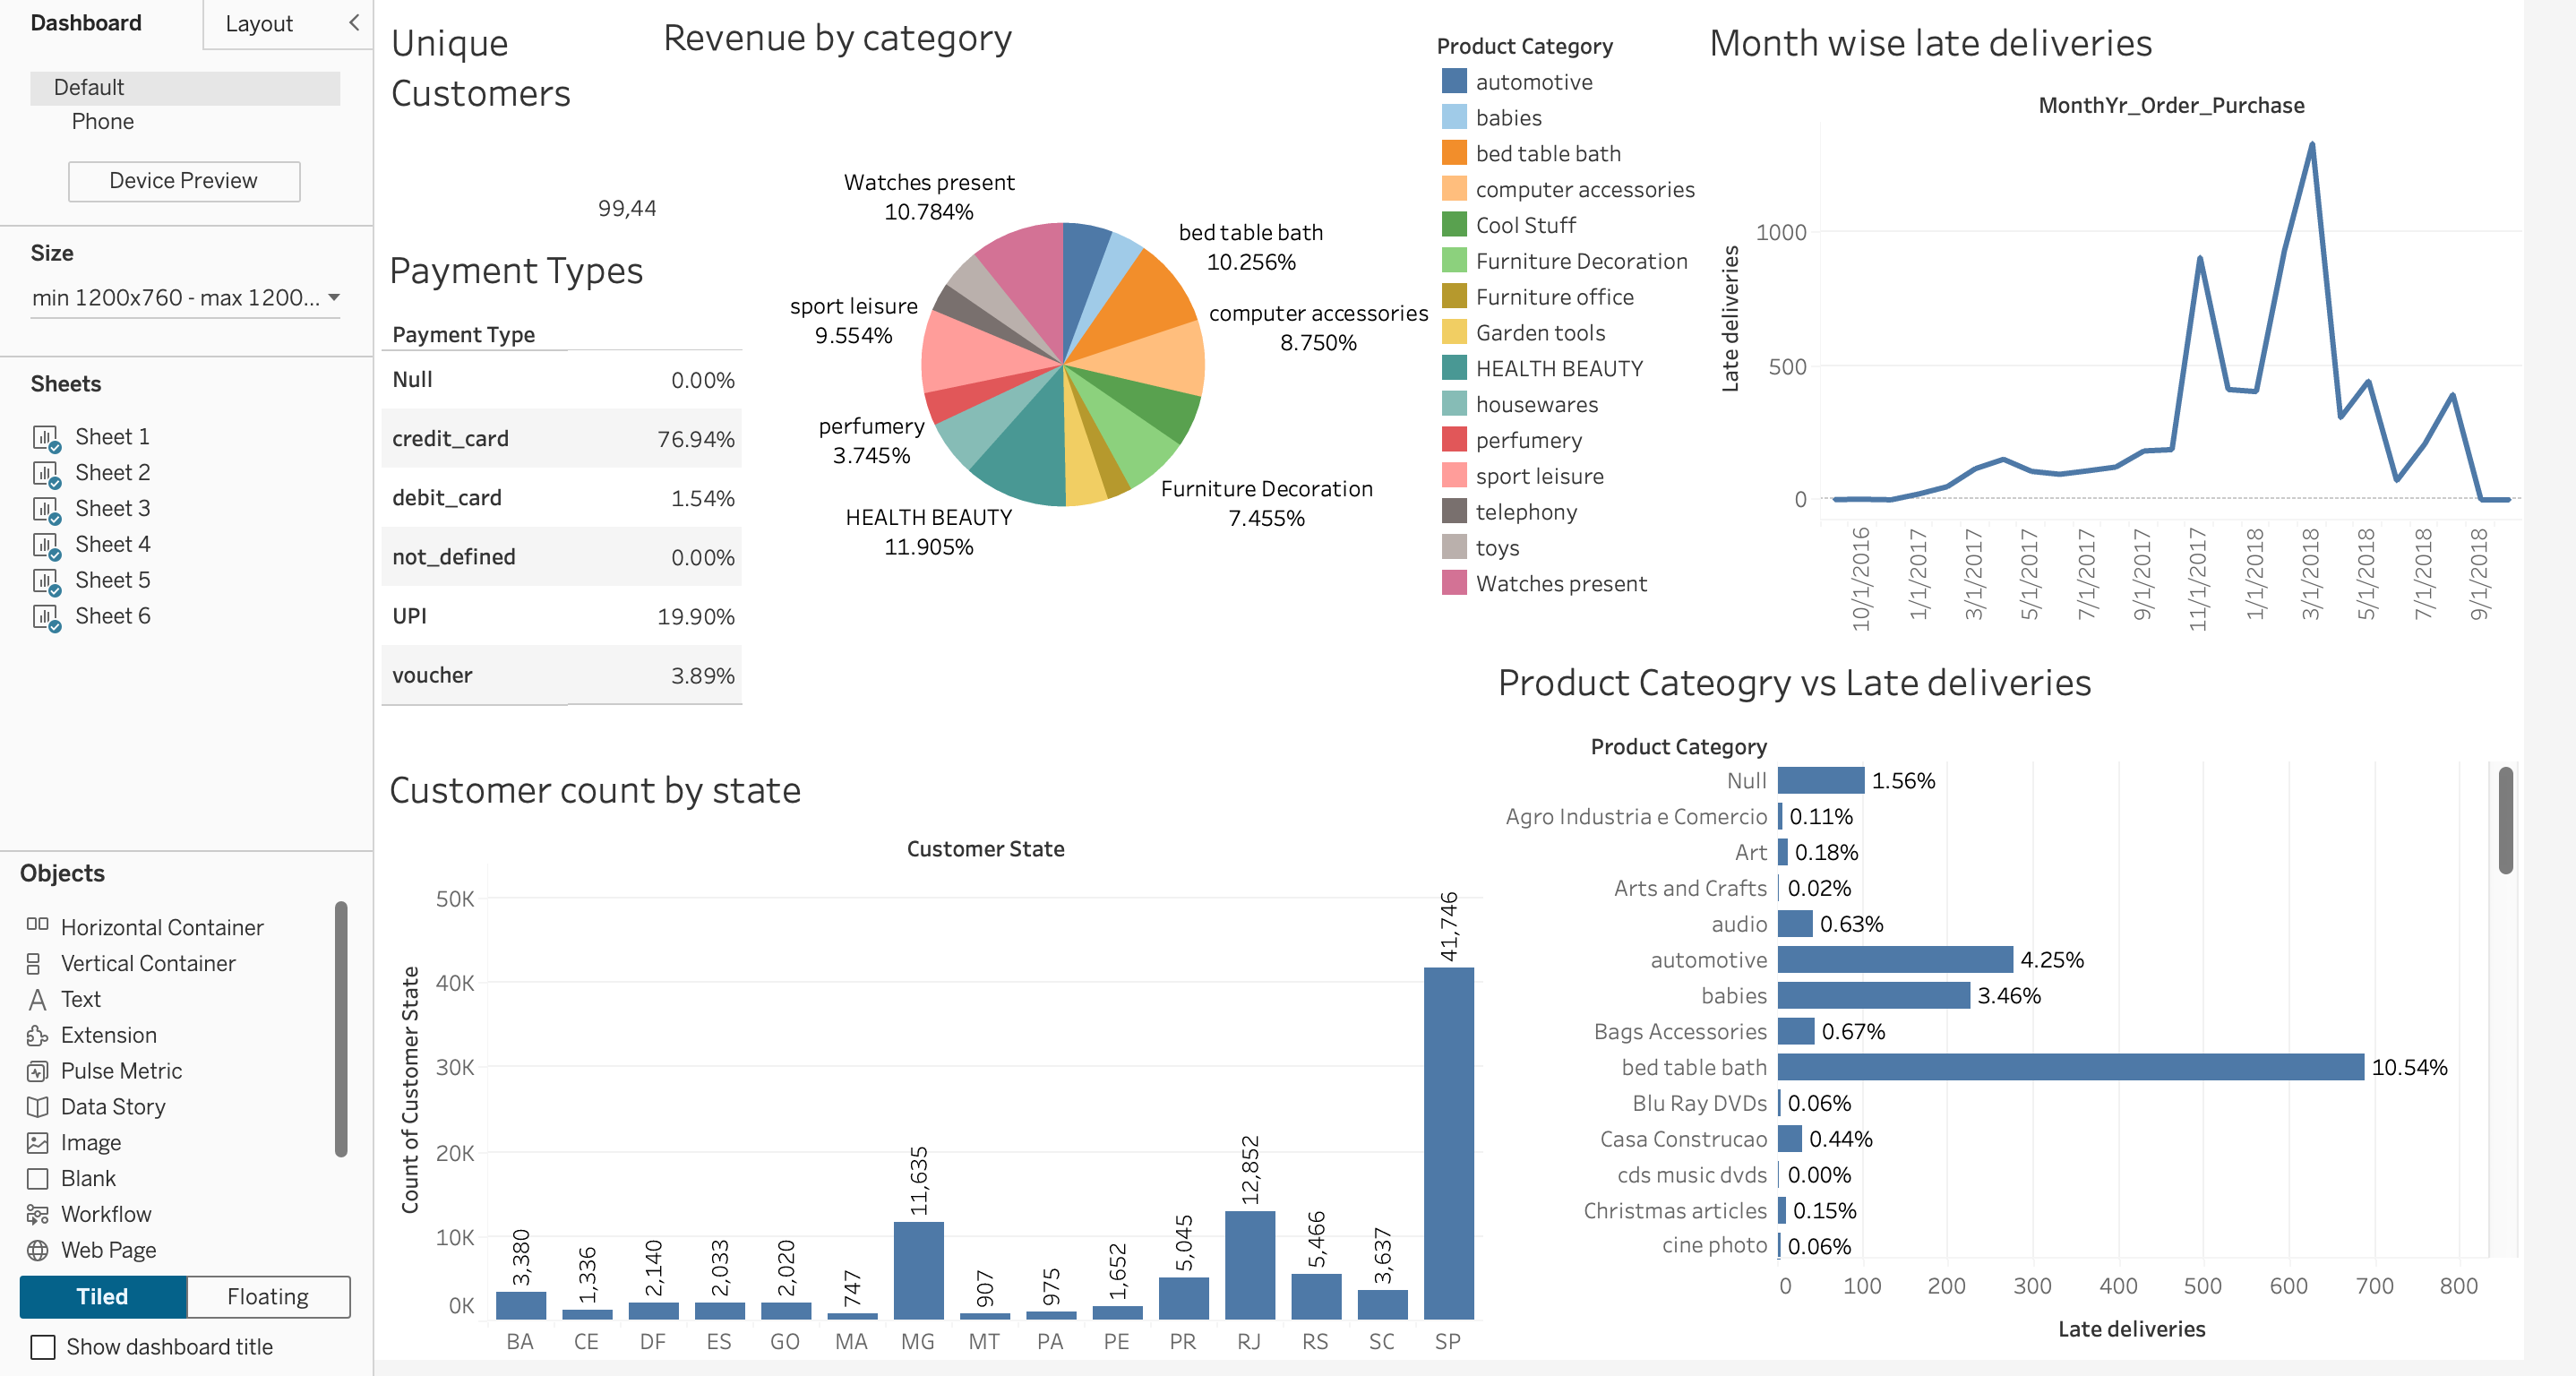

This screenshot's page, from the dashboard's own definition file:
{"tool":"tableau","page":{"name":"Dashboard 1","canvas":[1200,760],"ordinal":0},"visuals":[{"type":"worksheet","title":"Sheet 3","mark":"Pie","box":[157,3,578,400]},{"type":"worksheet","title":"Sheet 1","mark":"Automatic","box":[5,6,312,222]},{"type":"worksheet","title":"Sheet 6","mark":"Automatic","rows":["Calculation_2889833282118860800"],"cols":["Calculation_2889833282124713986"],"box":[741,6,458,349]},{"type":"legend","title":"Sheet 3","param":"[federated.09szq4a1h0bo0g15z1u9616bzdmt].[none:product category:nk]","box":[593,18,149,318]},{"type":"worksheet","title":"Sheet 4","mark":"Automatic","rows":["payment_type"],"box":[4,133,400,275]},{"type":"worksheet","title":"Sheet 5","mark":"Automatic","rows":["product category"],"cols":["Calculation_2889833282118860800"],"box":[623,363,574,395]},{"type":"worksheet","title":"Sheet 2","mark":"Automatic","rows":["customer_state"],"cols":["customer_state"],"box":[4,423,615,336]}]}

Visuals, with their boxes on the page's 1200x760 design canvas (x1, y1, x2, y2). These are canvas units, not pixel positions in the 2576x1376 screenshot, which may show the page scaled, cropped or inside an application window:
"Sheet 3" worksheet (Pie marks): [157, 3, 735, 403]
"Sheet 1" worksheet: [5, 6, 317, 228]
"Sheet 6" worksheet: [741, 6, 1199, 355]
"Sheet 3" legend: [593, 18, 742, 336]
"Sheet 4" worksheet: [4, 133, 404, 408]
"Sheet 5" worksheet: [623, 363, 1197, 758]
"Sheet 2" worksheet: [4, 423, 619, 759]
